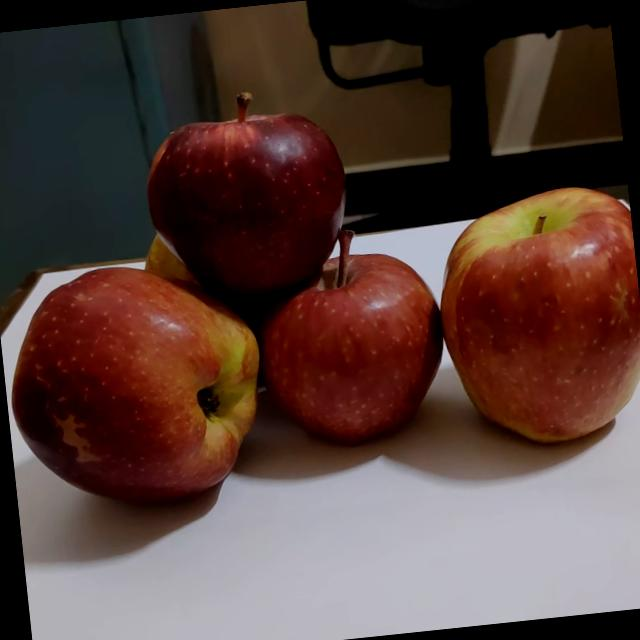apple: (0, 253, 273, 531), (417, 175, 640, 454), (132, 80, 362, 312), (232, 215, 448, 457), (122, 228, 199, 297)
